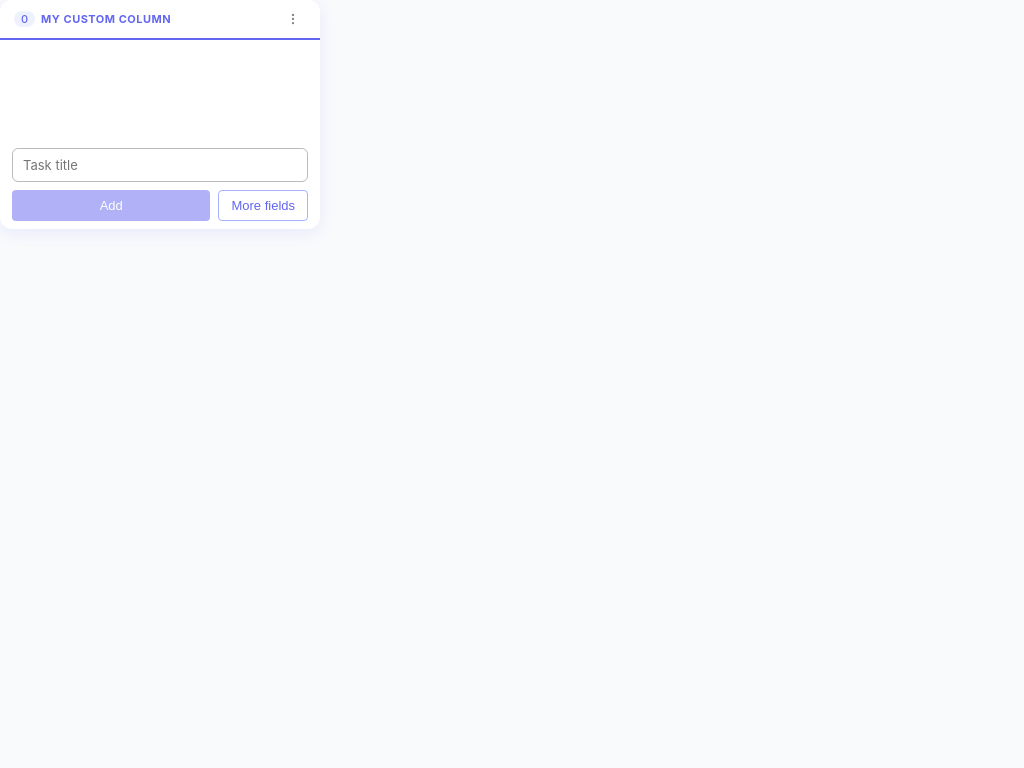
Test case: ColumnCard › Delete confirmation for custom column › shows delete confirmation modal when Delete is clicked
Open menu
Click the button named "Menu" at (293, 19), box [280,10,306,28]
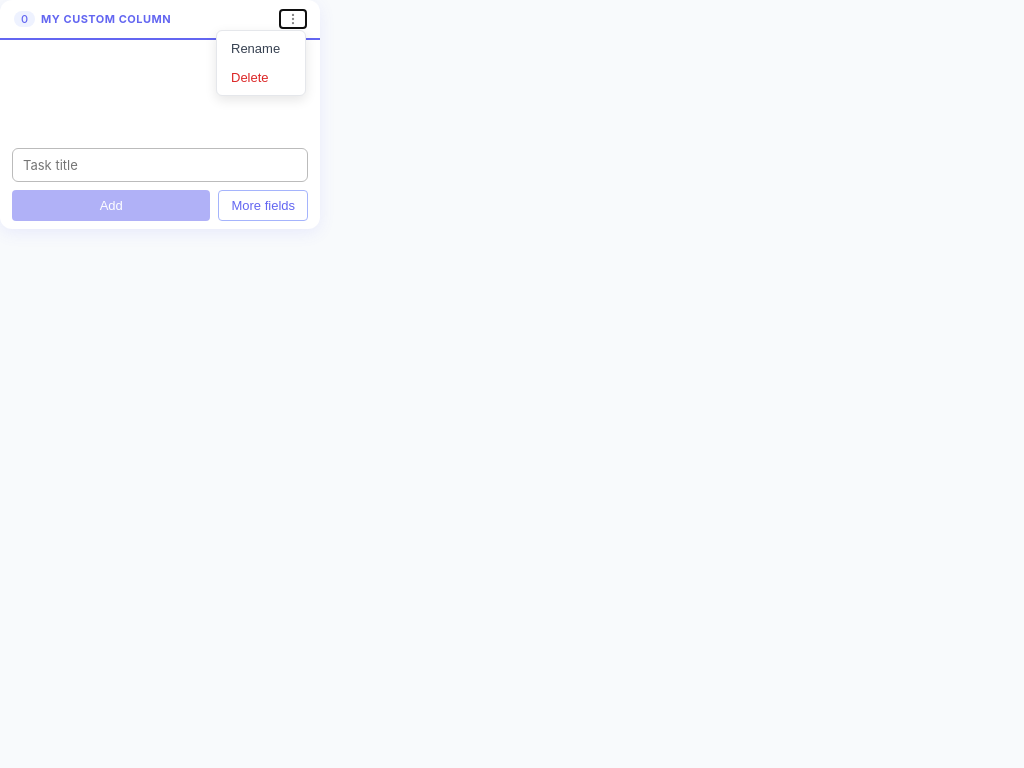
Click Delete
Click the button "Delete" at (261, 78), box [221,64,301,91]
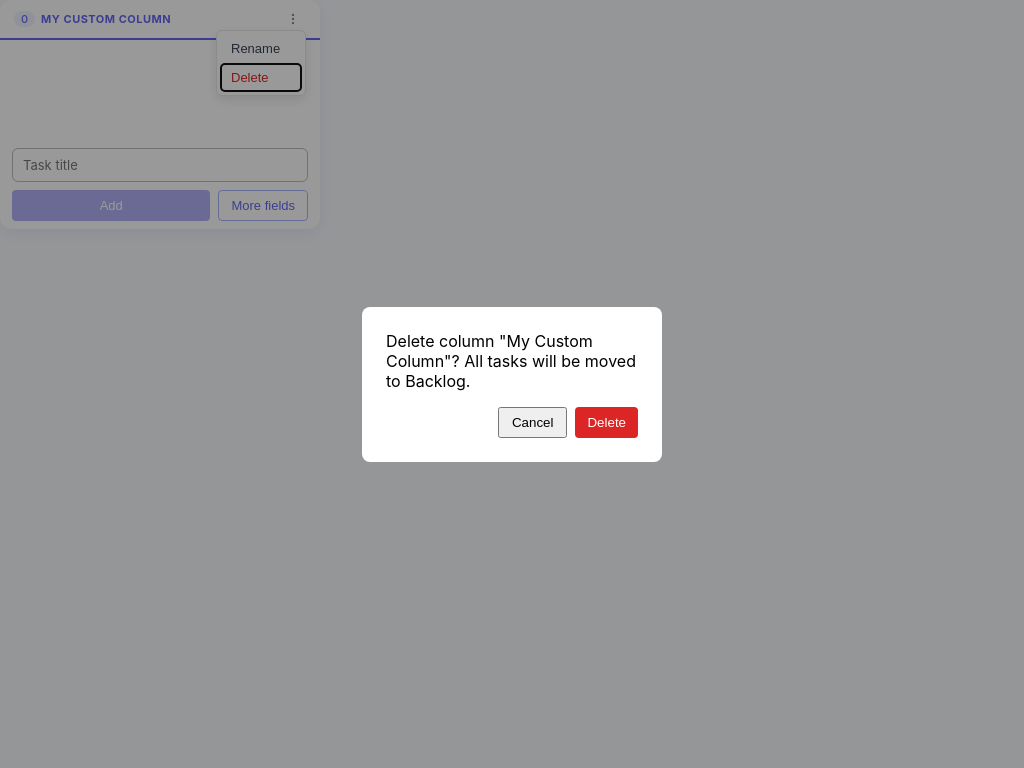
Result: the text "Delete column \"My Custom Column\"" is shown at [386,330,638,390]
Result: the button "Cancel" is shown at [498,406,568,438]
